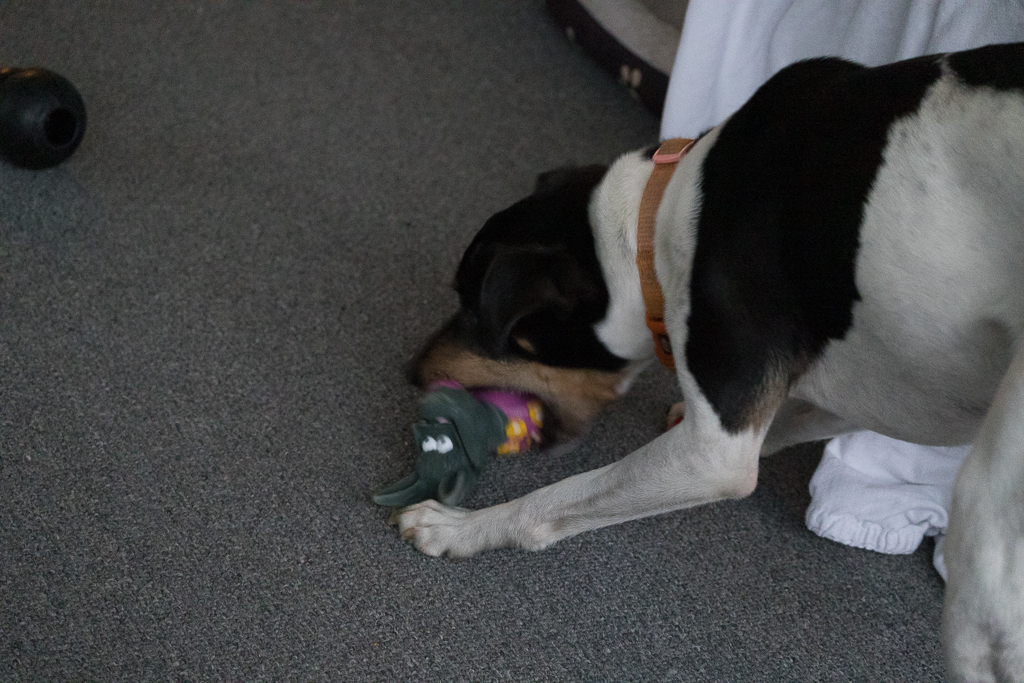Dog: (360, 29, 1024, 683)
Humanoid: (360, 363, 560, 519)
